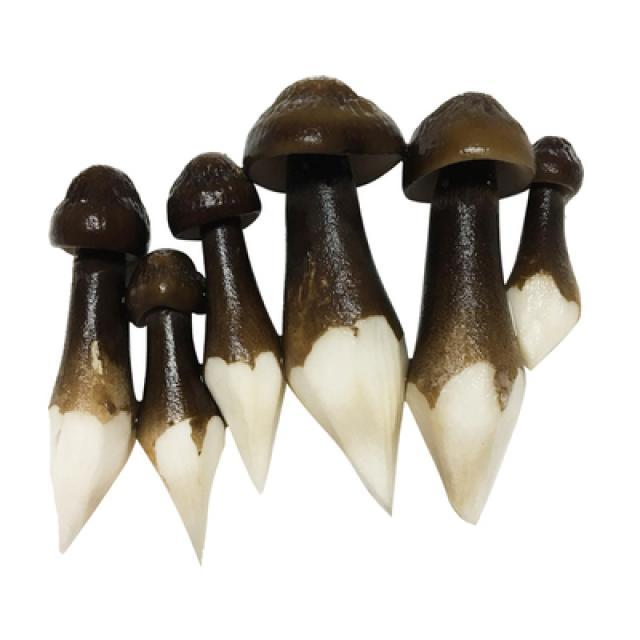Collybia albuminosa: (242, 77, 407, 517), (404, 91, 522, 525), (39, 162, 147, 552), (168, 150, 284, 495), (130, 250, 222, 565), (514, 134, 590, 368)
